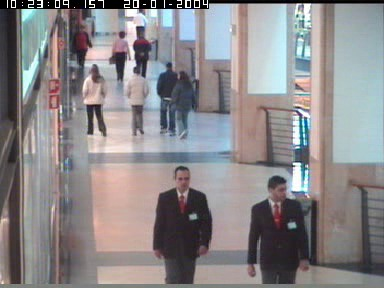person: (152, 165, 212, 285), (246, 175, 307, 285), (168, 71, 198, 138), (84, 63, 108, 136), (124, 67, 149, 134), (156, 64, 179, 135), (109, 31, 129, 81), (133, 31, 151, 80), (72, 23, 92, 67), (131, 9, 148, 39)
